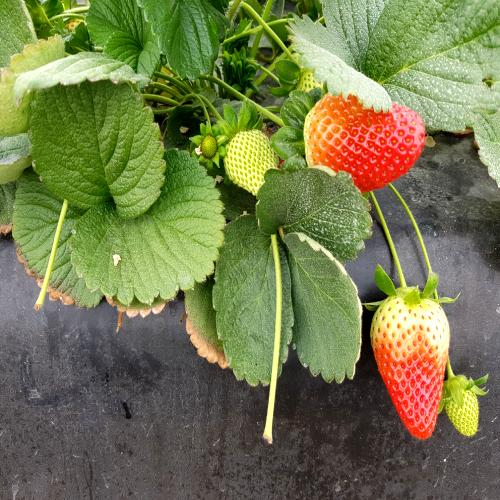partially-ripe: (354, 271, 451, 446)
ripe: (298, 78, 430, 194)
unripe: (216, 114, 283, 204), (438, 355, 481, 439)
